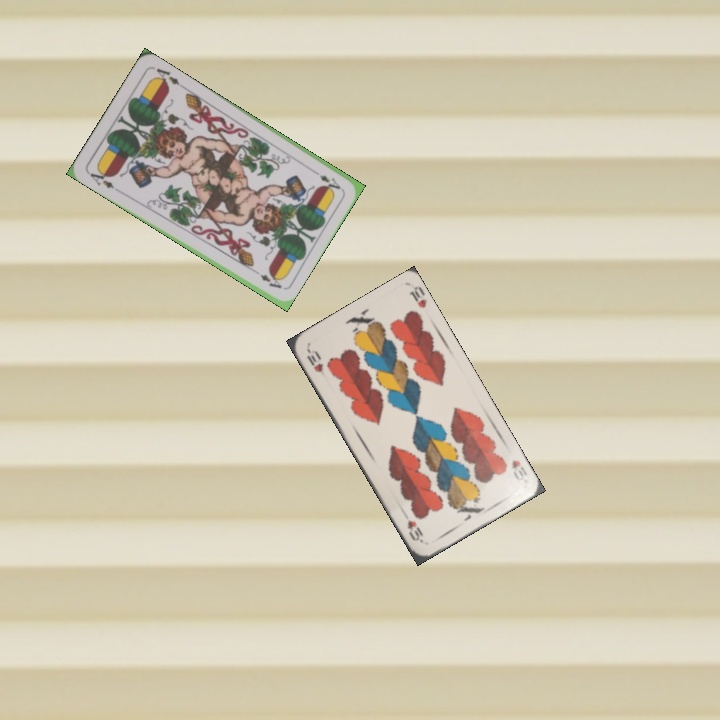EA: (84, 165, 121, 194), (316, 171, 343, 192)
H10: (302, 345, 329, 381), (507, 456, 530, 484)
